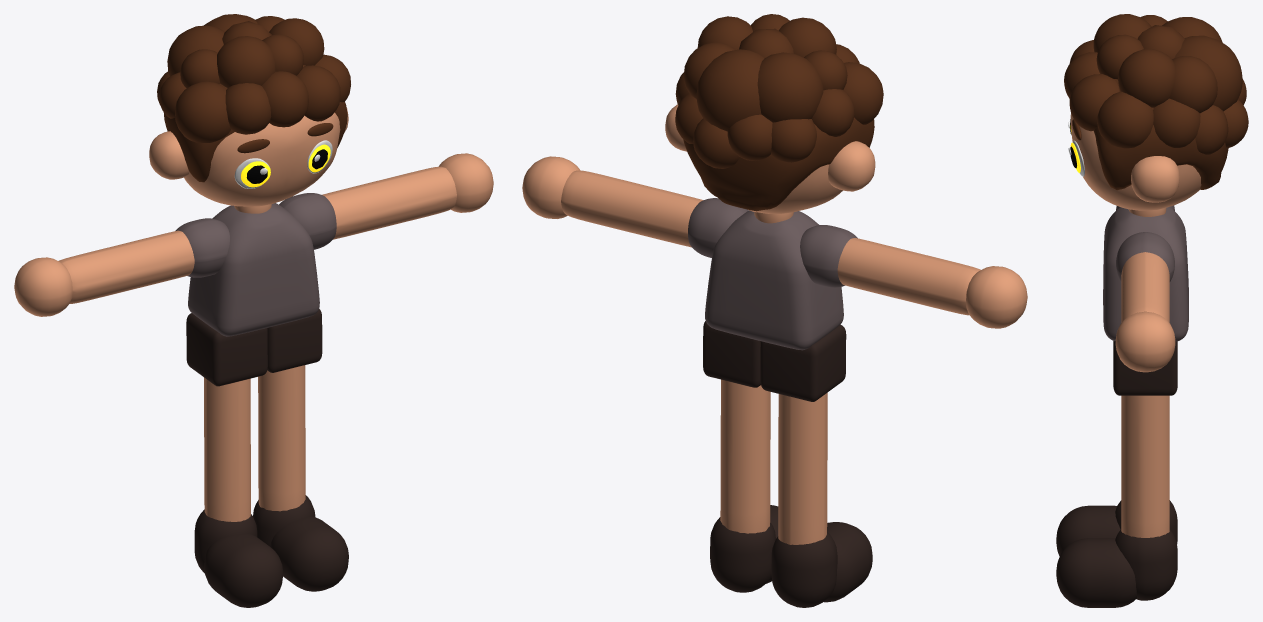
Rendered from PIRATE MESH FOR BLENDER.fbx.
3 views of the same model, side by side, from view 1: azimuth 30°, elevation 25°; view 2: azimuth 150°, elevation 25°; view 3: azimuth 270°, elevation 25° (orthographic). The views are drawn at different scales.
Parts seen in each view (by area): view 1: pirate boy; view 2: pirate boy; view 3: pirate boy.
Boxes of the visible parts, bbox=[...] form: pirate boy: bbox=[14, 14, 493, 607]; pirate boy: bbox=[522, 14, 1027, 607]; pirate boy: bbox=[1056, 14, 1248, 607].
Size of the model in its own units: 425 by 474 by 147.
